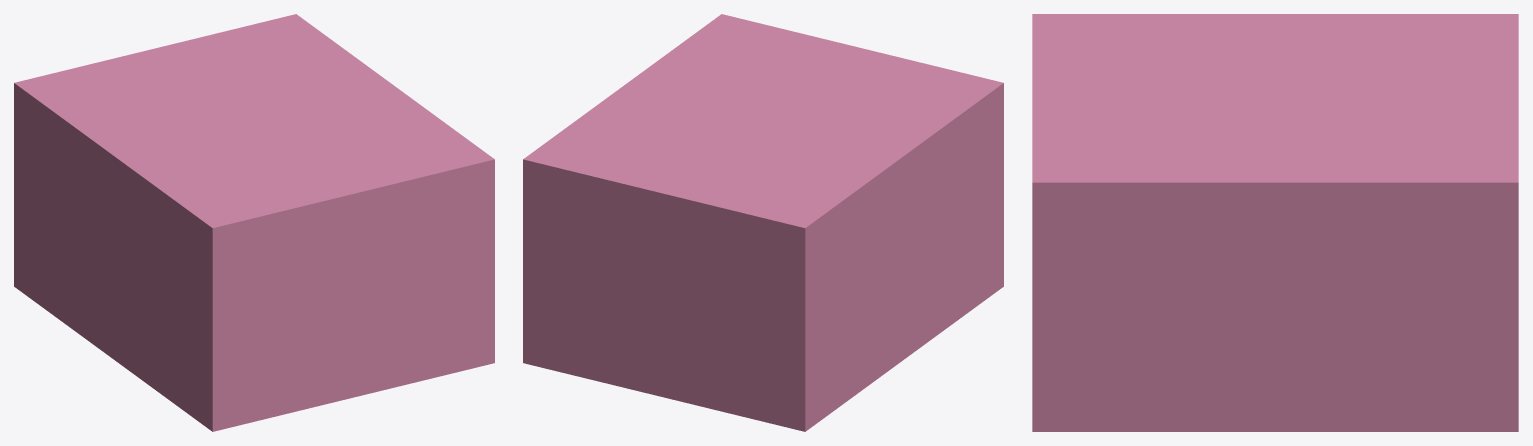
The model's file is rock_01_a_small_c.dae.
The picture shows the model from 3 angles, left to right: view 1: azimuth 30°, elevation 25°; view 2: azimuth 150°, elevation 25°; view 3: azimuth 270°, elevation 25°; orthographic projection. The views are drawn at different scales.
Parts seen in each view (by area): view 1: Untitled; view 2: Untitled; view 3: Untitled.
Part boxes in pixels (x1,y1,x2,y2): Untitled: (14,14,494,431); Untitled: (523,14,1003,431); Untitled: (1032,14,1518,431).
Size of the model in its own units: 0.3529 by 0.4302 by 0.2434.
